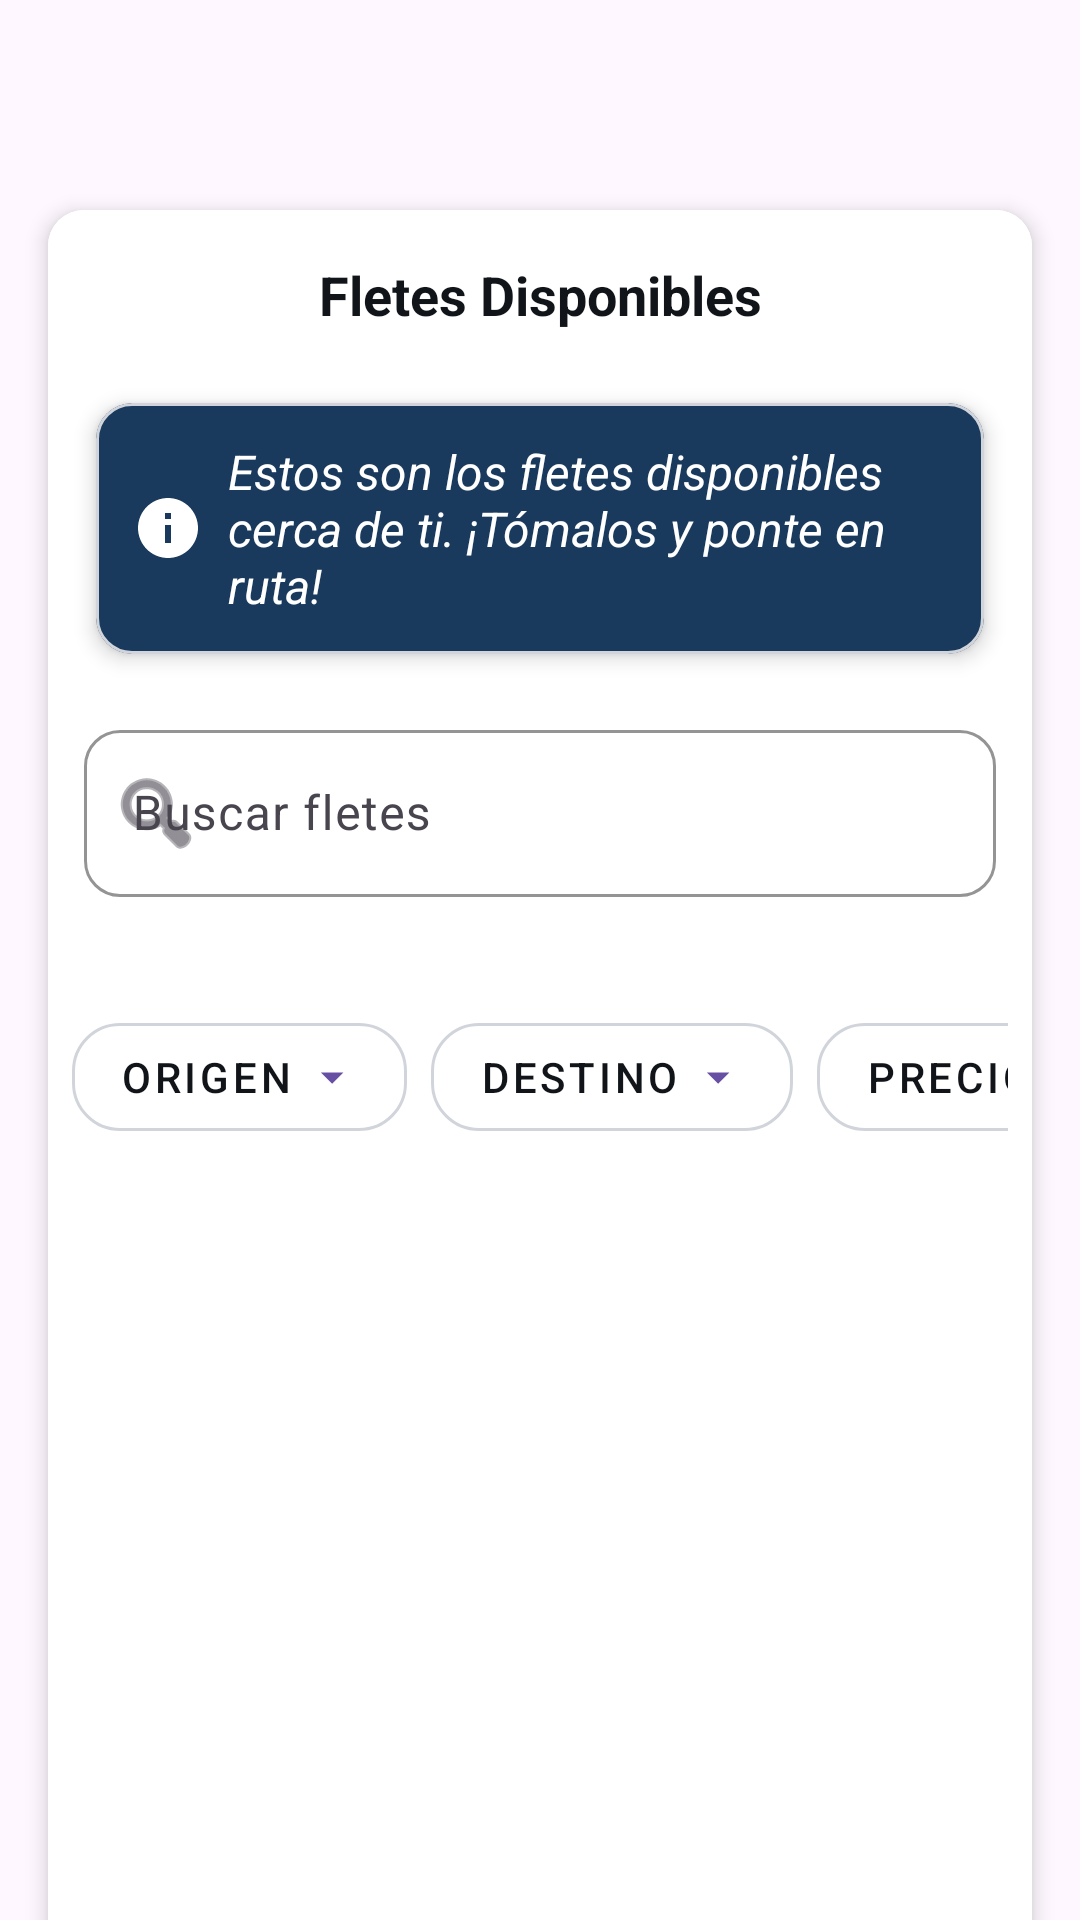

Icon click points for this 1080 × 1920 phone screenshot, format point (x, y):
info: point (168, 528)
